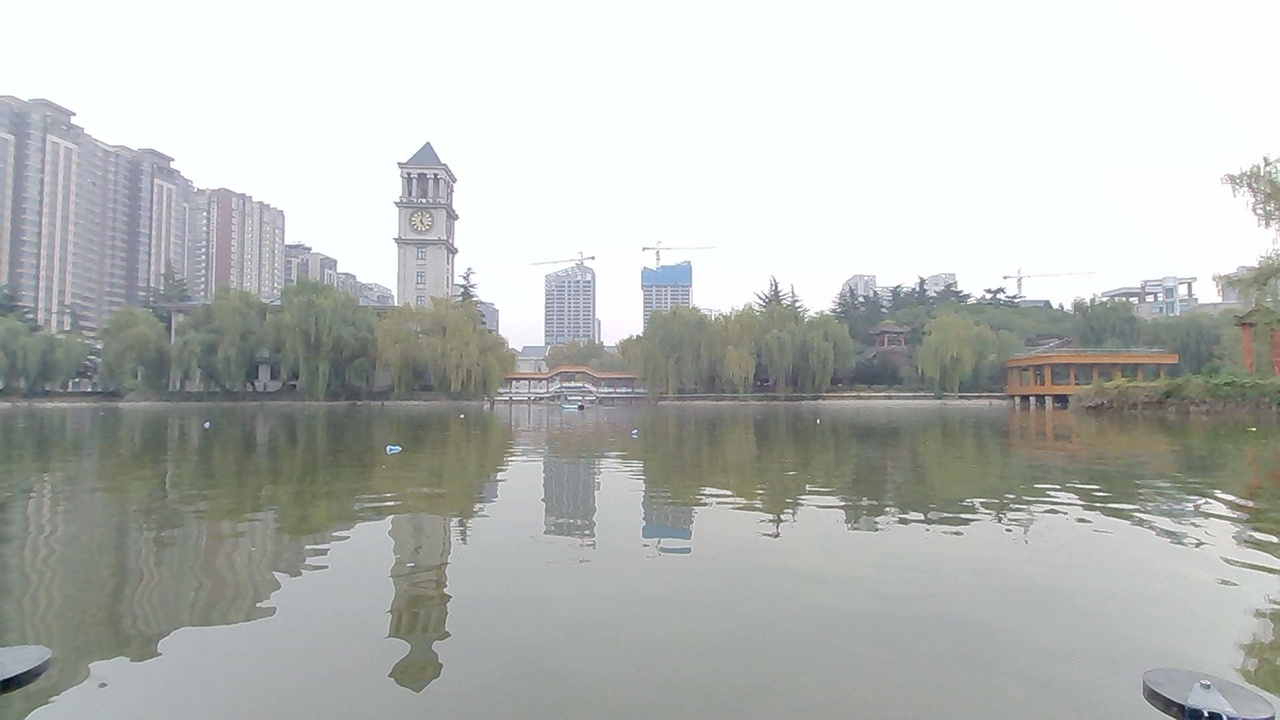bottle: (619, 417, 653, 444), (188, 407, 226, 431), (804, 410, 834, 436), (377, 443, 414, 464), (447, 403, 476, 425)
